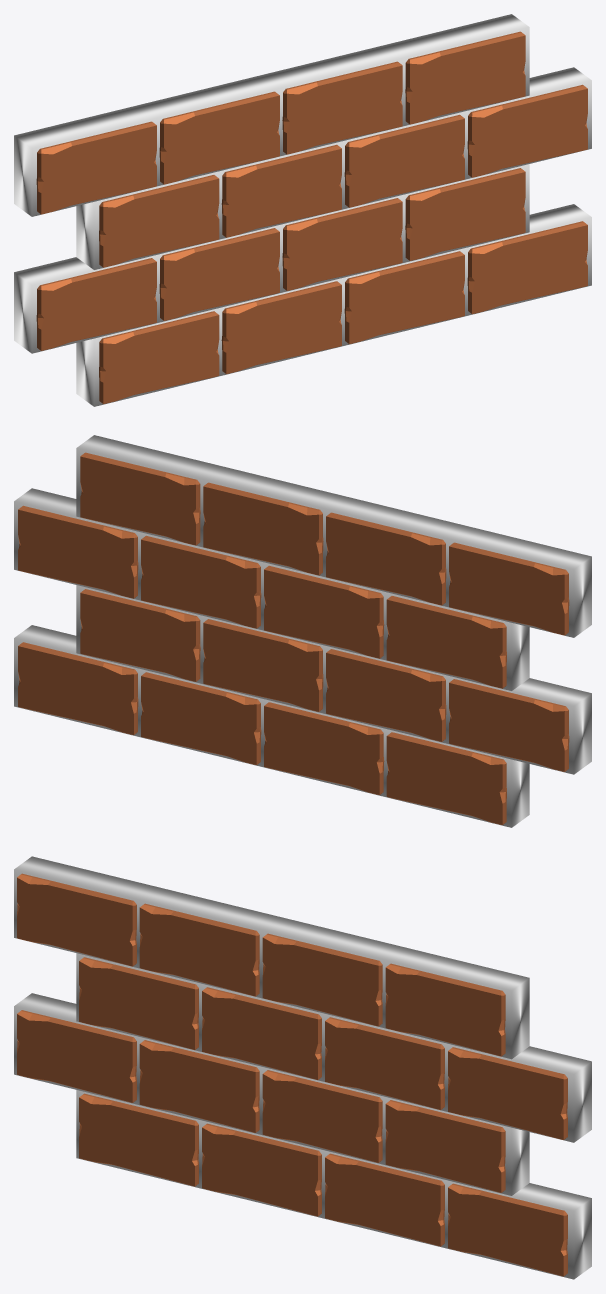
File: Central_Wall.fbx
The picture shows the model from 3 angles, top to bottom: view 1: azimuth 30°, elevation 25°; view 2: azimuth 150°, elevation 25°; view 3: azimuth 330°, elevation 25°; orthographic projection.
Visible parts, largest first — view 1: Wall_Modular.005, Wall_Modular.004, Cube.002, Cube, Wall_Modular.001; view 2: Wall_Modular.005, Wall_Modular.004, Cube.002, Cube, Wall_Modular.001; view 3: Wall_Modular.005, Wall_Modular.004, Cube.002, Cube, Wall_Modular.001.
Boxes of the visible parts, x1,y1,x2,y2 form: Wall_Modular.005: [36, 31, 525, 350]; Wall_Modular.004: [99, 84, 587, 374]; Cube.002: [14, 14, 529, 353]; Cube: [76, 67, 591, 406]; Wall_Modular.001: [99, 311, 219, 404]; Wall_Modular.005: [80, 452, 569, 771]; Wall_Modular.004: [18, 505, 506, 795]; Cube.002: [76, 435, 591, 774]; Cube: [14, 488, 529, 827]; Wall_Modular.001: [386, 732, 506, 825]; Wall_Modular.005: [17, 873, 505, 1192]; Wall_Modular.004: [79, 957, 567, 1276]; Cube.002: [14, 856, 529, 1195]; Cube: [76, 953, 591, 1279]; Wall_Modular.001: [79, 1093, 198, 1186].
Bounding box in the file's own units: 360 × 168 × 27.04.
